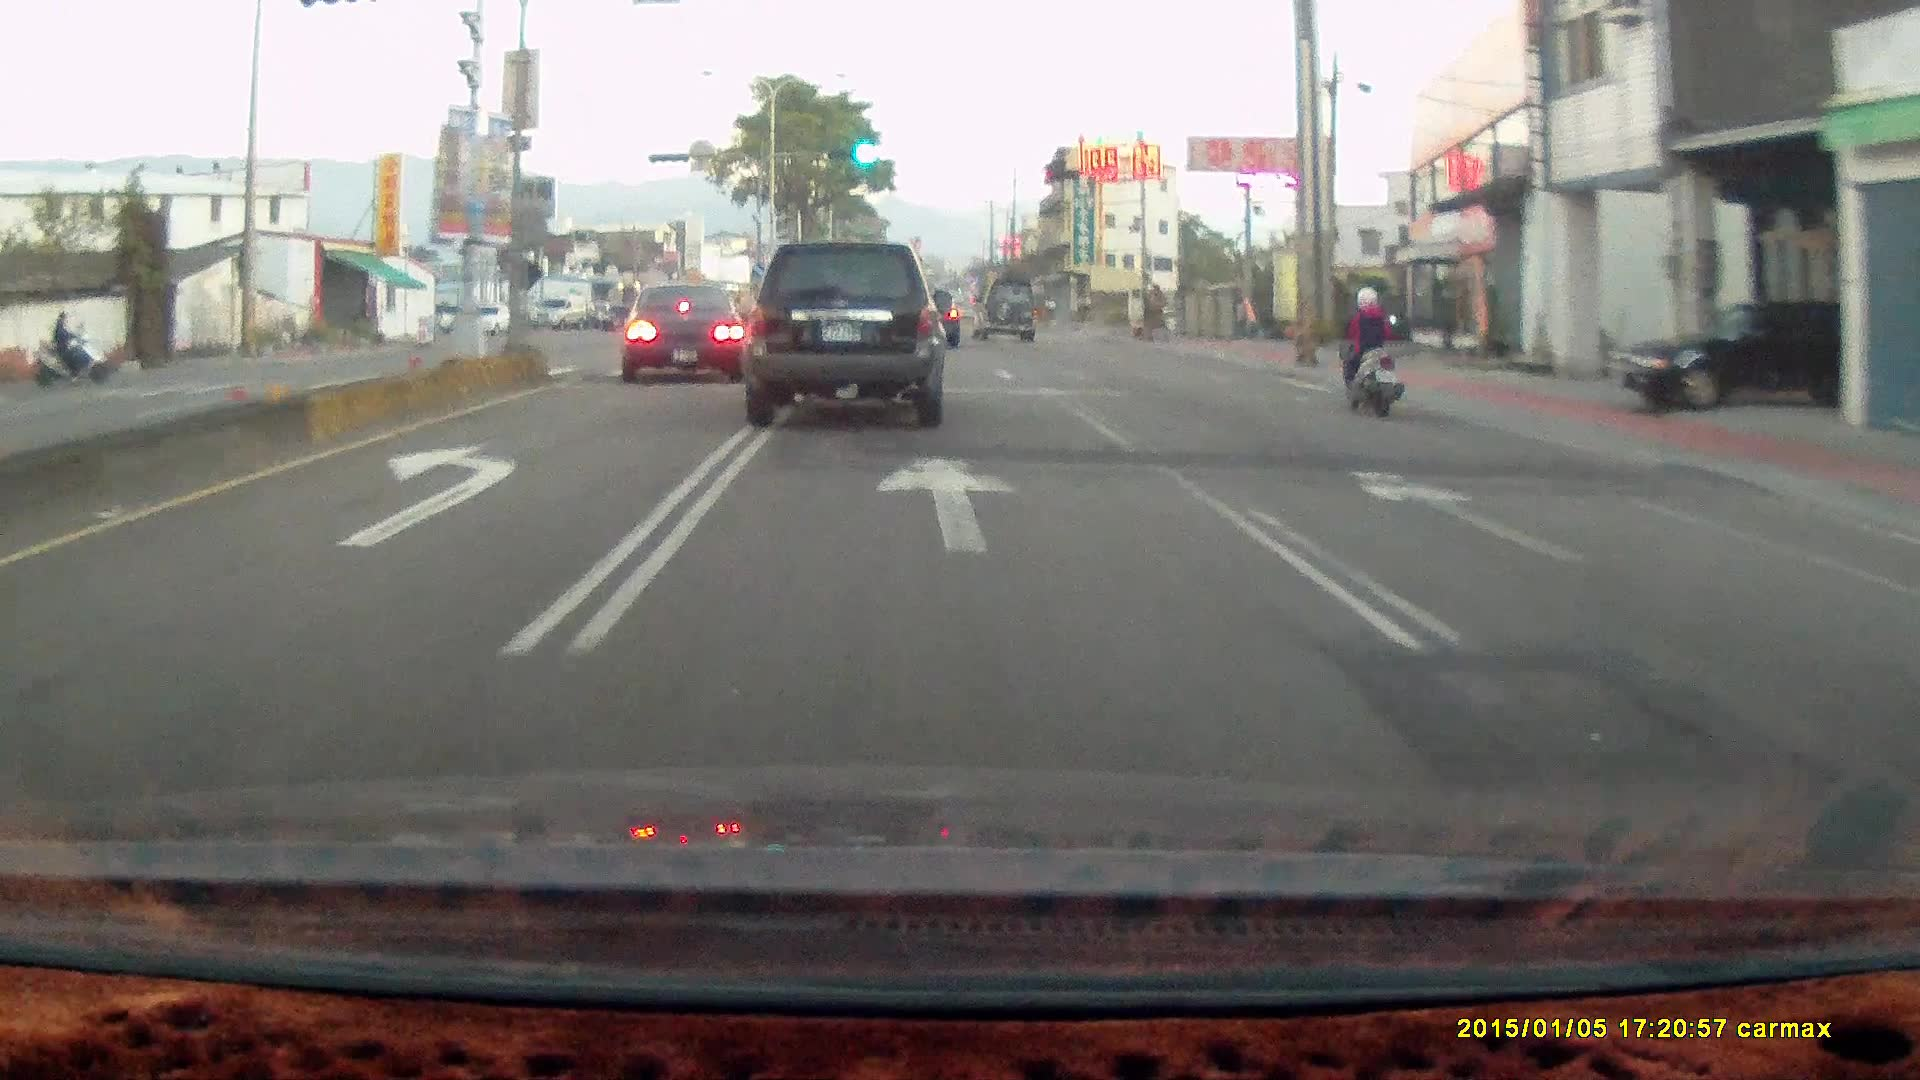rider: (1325, 275, 1417, 428), (1330, 286, 1401, 417), (13, 297, 117, 383)
vehicle: (745, 234, 955, 426), (744, 239, 950, 425), (1608, 294, 1902, 411), (1624, 295, 1844, 413), (618, 279, 756, 383), (620, 278, 750, 381), (972, 277, 1039, 343), (970, 278, 1037, 340), (453, 301, 518, 336), (526, 296, 586, 329), (599, 305, 641, 332)
